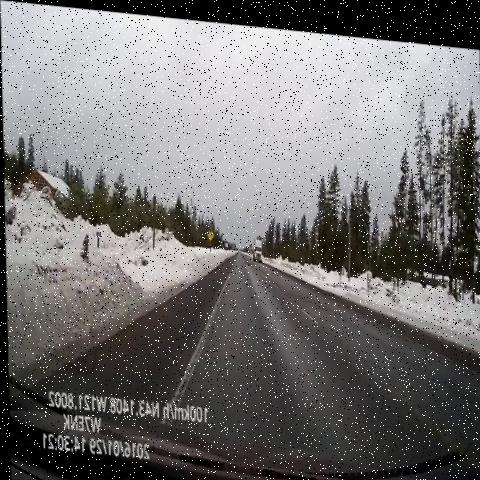pothole: (232, 248, 256, 268)
